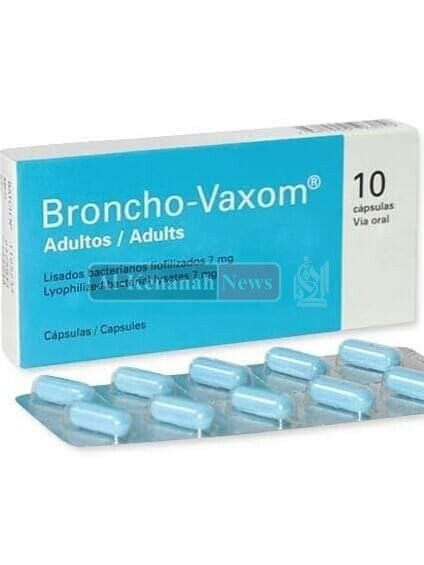Medicine: (5, 132, 424, 368)
